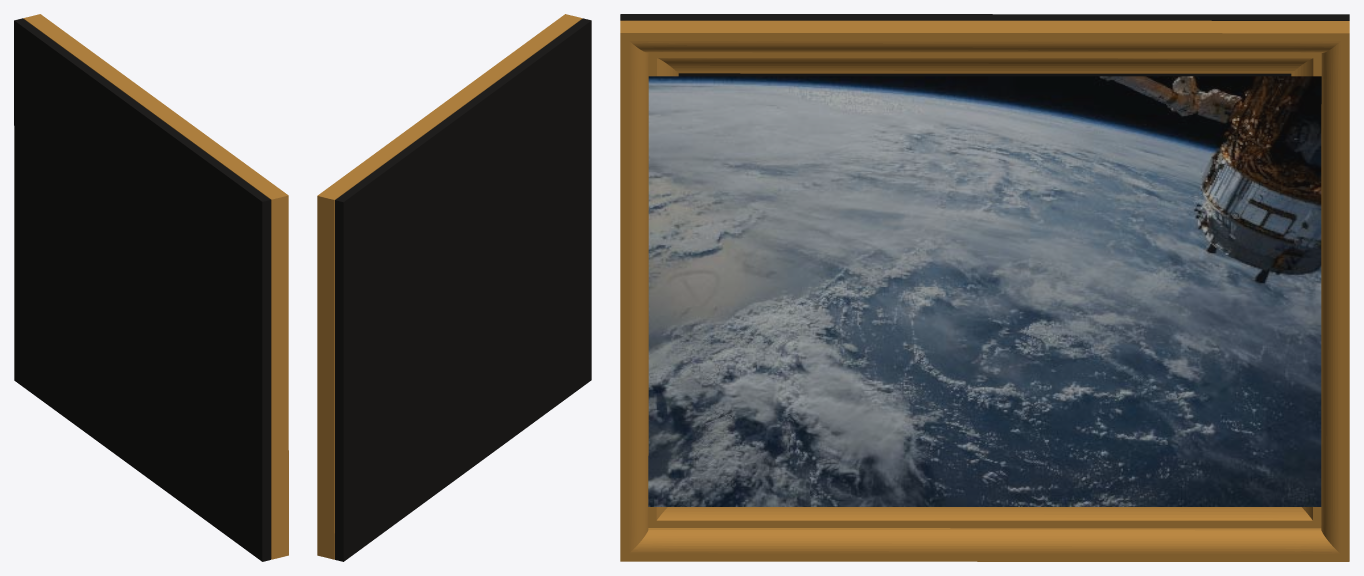
3 views of the same model, side by side, from view 1: azimuth 30°, elevation 25°; view 2: azimuth 150°, elevation 25°; view 3: azimuth 270°, elevation 25° (orthographic). The views are drawn at different scales.
Visible parts, largest first — view 1: frame.001_3.001, back panel.001_2.001; view 2: frame.001_3.001, back panel.001_2.001; view 3: frame.001_3.001, back panel.001_2.001.
Boxes of the visible parts, x1,y1,x2,y2 form: frame.001_3.001: (14, 18, 270, 561); back panel.001_2.001: (23, 14, 288, 559); frame.001_3.001: (335, 18, 591, 561); back panel.001_2.001: (317, 14, 582, 559); frame.001_3.001: (620, 14, 1349, 506); back panel.001_2.001: (620, 20, 1349, 561).
Size of the model in its own units: 1.05 by 13.7 by 17.12.
Materials: 3 (1 with a texture image).
